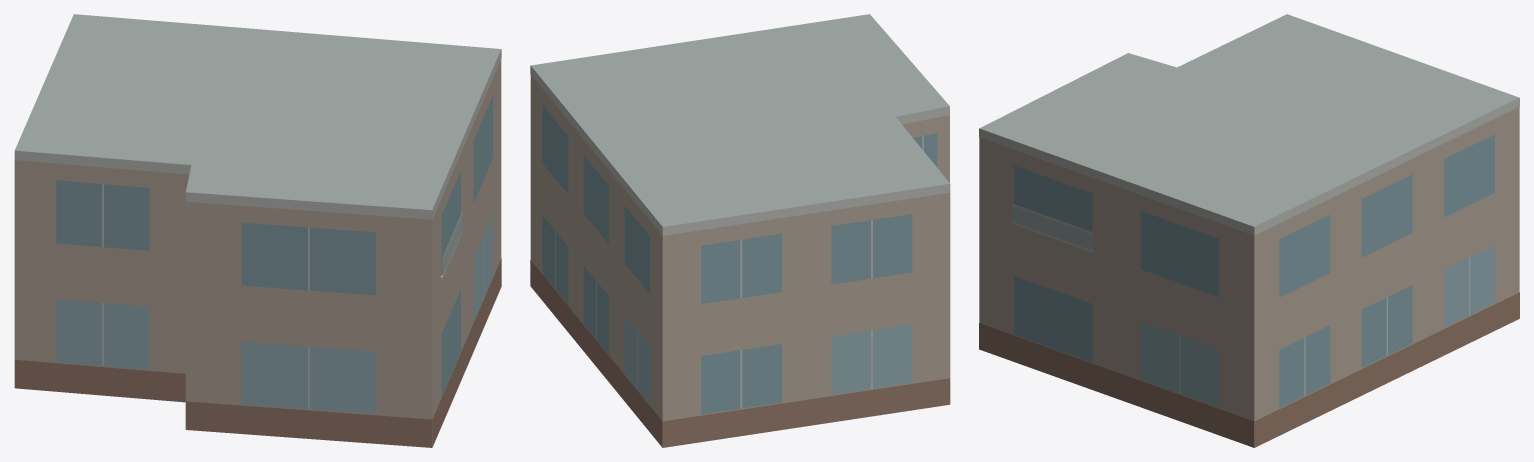
File: survey-upis-32878909.glb
3 renders of one model, left to right at view 1: azimuth 30°, elevation 25°; view 2: azimuth 150°, elevation 25°; view 3: azimuth 270°, elevation 25°, orthographic. The views are drawn at different scales.
Visible parts, largest first — view 1: survey-upis-32878909.tmp; view 2: survey-upis-32878909.tmp; view 3: survey-upis-32878909.tmp.
Boxes of the visible parts, left/top/right/bottom form: survey-upis-32878909.tmp: left=14, top=14, right=501, bottom=447; survey-upis-32878909.tmp: left=530, top=14, right=950, bottom=447; survey-upis-32878909.tmp: left=979, top=14, right=1519, bottom=447.
Bounding box in the file's own units: 12.61 × 6.1 × 13.53.
